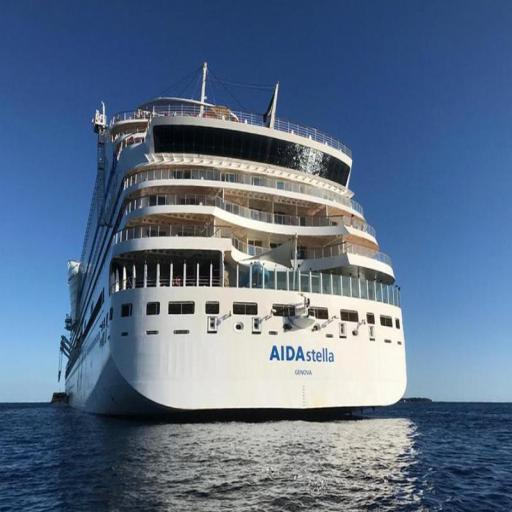cruises: (57, 78, 416, 414)
